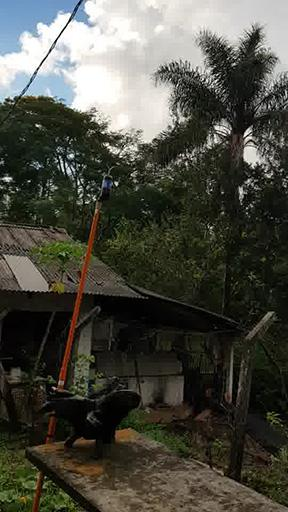Detector_Tensao_Contato: (100, 164, 114, 199)
Vara_Manobra: (29, 201, 101, 512)
